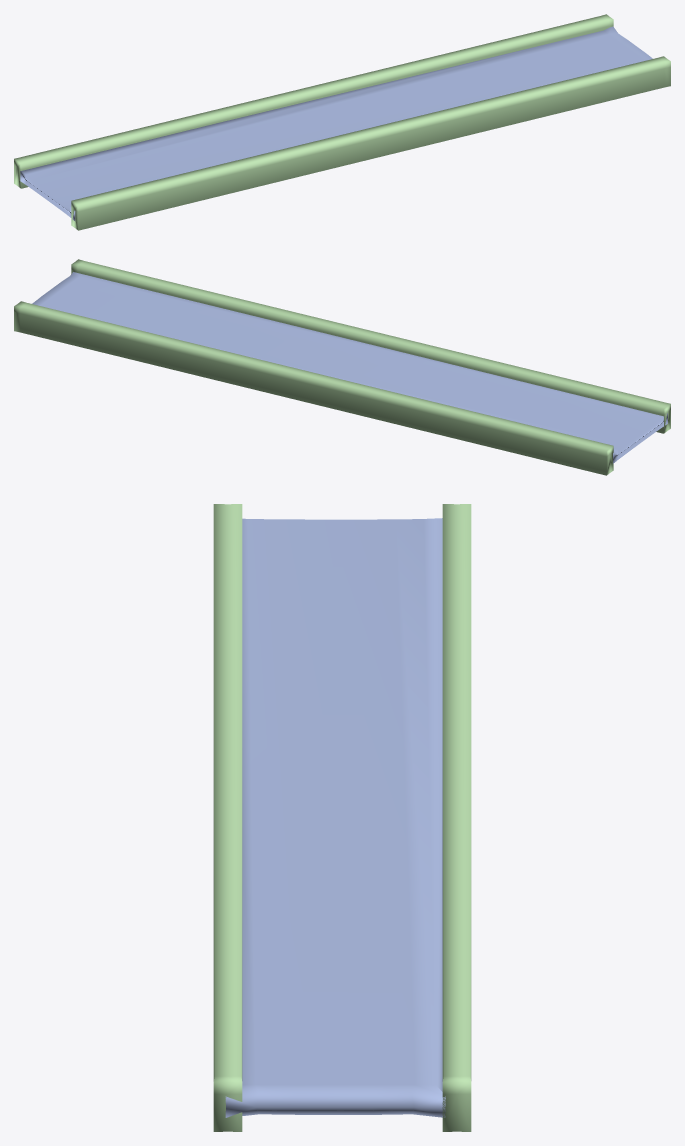
The model's file is Glowing Bridge.fbx.
3 renders of one model, top to bottom at view 1: azimuth 30°, elevation 25°; view 2: azimuth 150°, elevation 25°; view 3: azimuth 270°, elevation 25°, orthographic. The views are drawn at different scales.
Visible parts, largest first — view 1: PM3D_Cube3D1_6; view 2: PM3D_Cube3D1_6; view 3: PM3D_Cube3D1_6.
Boxes of the visible parts, x1,y1,x2,y2 form: PM3D_Cube3D1_6: (14, 14, 670, 230); PM3D_Cube3D1_6: (14, 259, 670, 475); PM3D_Cube3D1_6: (213, 504, 471, 1131).
Bounding box in the file's own units: 5.98 × 0.2387 × 1.13.
